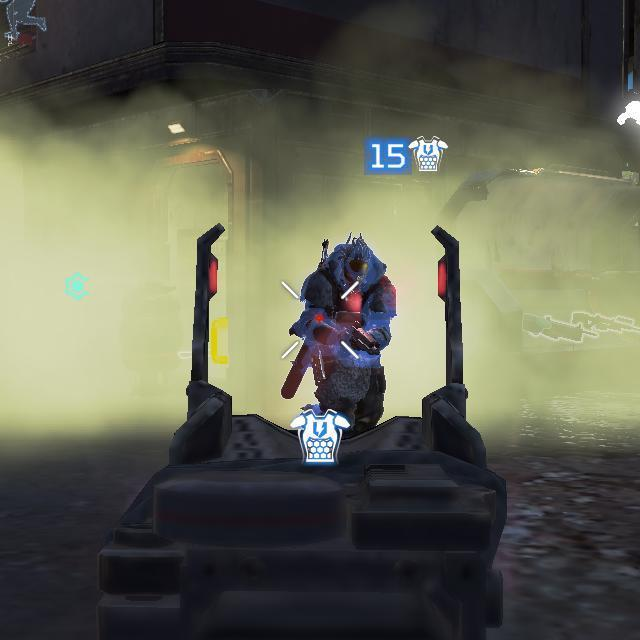avatar: (279, 235, 399, 439)
